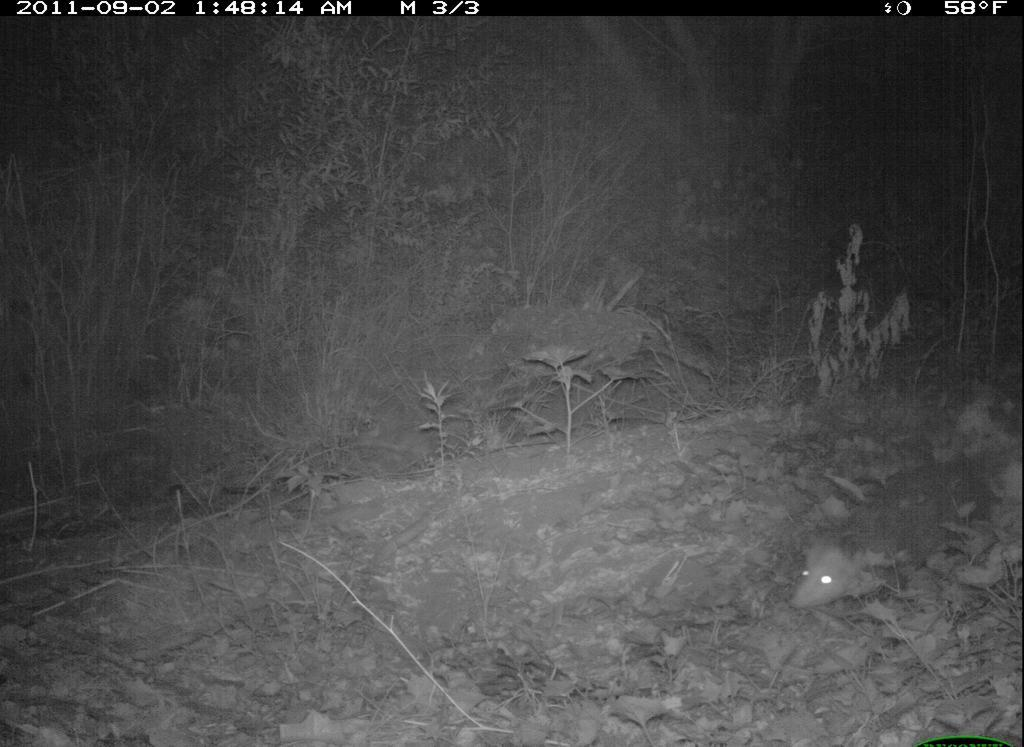opossum: (767, 476, 1005, 623)
